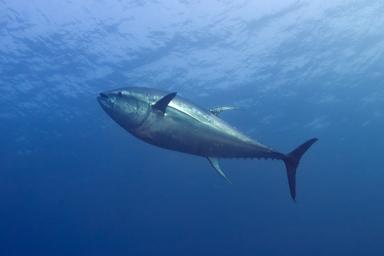Scombridae -Tunas-: (91, 81, 322, 207)
